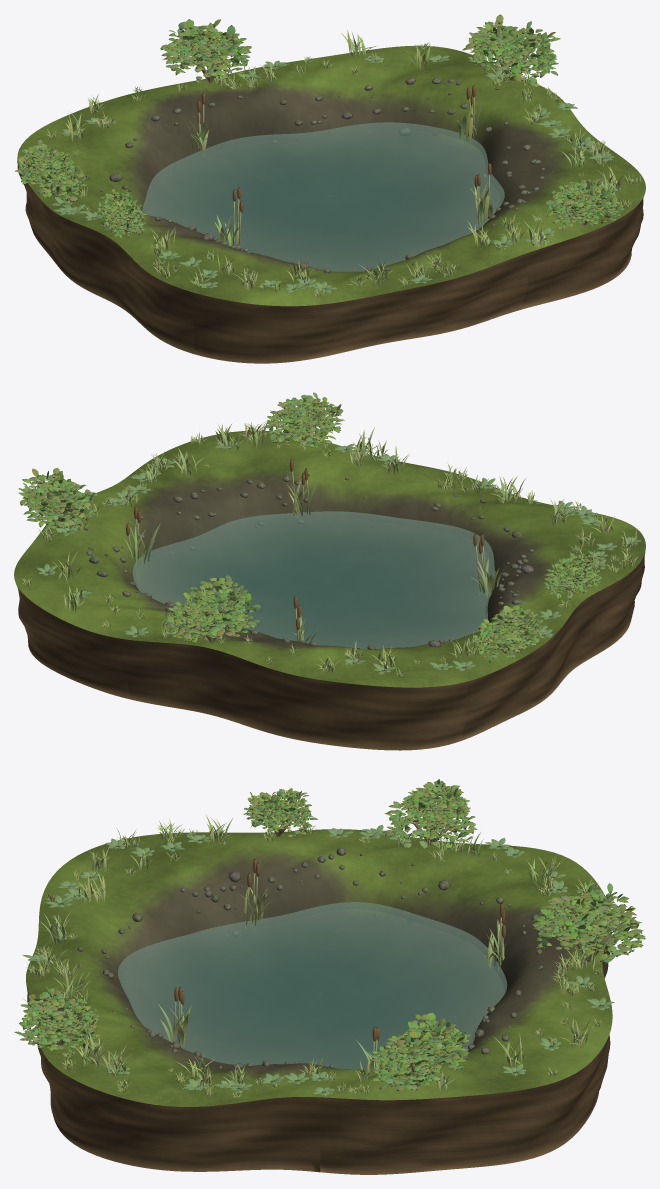
The model's file is lake_model.glb.
The picture shows the model from 3 angles, top to bottom: view 1: azimuth 30°, elevation 25°; view 2: azimuth 150°, elevation 25°; view 3: azimuth 270°, elevation 25°; orthographic projection. The views are drawn at different scales.
Parts seen in each view (by area): view 1: SculptedBank, WaterSurface, LakeBasin, EarthStrata, ShrubLeaves, GrassTufts, ShorePebbles, ReedLeaves, CattailHeads; view 2: SculptedBank, EarthStrata, WaterSurface, LakeBasin, ShrubLeaves, GrassTufts, ShorePebbles, ReedLeaves, CattailHeads; view 3: SculptedBank, WaterSurface, LakeBasin, EarthStrata, ShrubLeaves, GrassTufts, ShorePebbles, ReedLeaves, ShrubBranches, CattailHeads.
Boxes of the visible parts, box(x1,y1,x2,y2) form: SculptedBank: box(17, 45, 645, 306); WaterSurface: box(142, 122, 504, 271); LakeBasin: box(146, 129, 499, 271); EarthStrata: box(17, 160, 643, 363); ShrubLeaves: box(14, 14, 624, 293); GrassTufts: box(46, 30, 641, 298); ShorePebbles: box(99, 77, 545, 272); ReedLeaves: box(186, 97, 492, 246); CattailHeads: box(197, 85, 491, 213); SculptedBank: box(14, 430, 645, 687); EarthStrata: box(16, 552, 645, 750); WaterSurface: box(132, 511, 494, 649); LakeBasin: box(136, 518, 489, 648); ShrubLeaves: box(18, 392, 641, 674); GrassTufts: box(22, 420, 639, 677); ShorePebbles: box(84, 474, 534, 649); ReedLeaves: box(124, 471, 506, 643); CattailHeads: box(126, 459, 484, 630); SculptedBank: box(26, 829, 612, 1106); WaterSurface: box(118, 902, 507, 1070); LakeBasin: box(123, 909, 504, 1070); EarthStrata: box(26, 931, 611, 1174); ShrubLeaves: box(14, 779, 645, 1096); GrassTufts: box(22, 815, 602, 1098); ShorePebbles: box(77, 847, 545, 1068); ReedLeaves: box(158, 873, 506, 1071); ShrubBranches: box(45, 806, 610, 1086); CattailHeads: box(174, 859, 505, 1049).
Size of the model in its own units: 10.79 by 2.52 by 9.82.
Materials: 9 (4 with a texture image).
